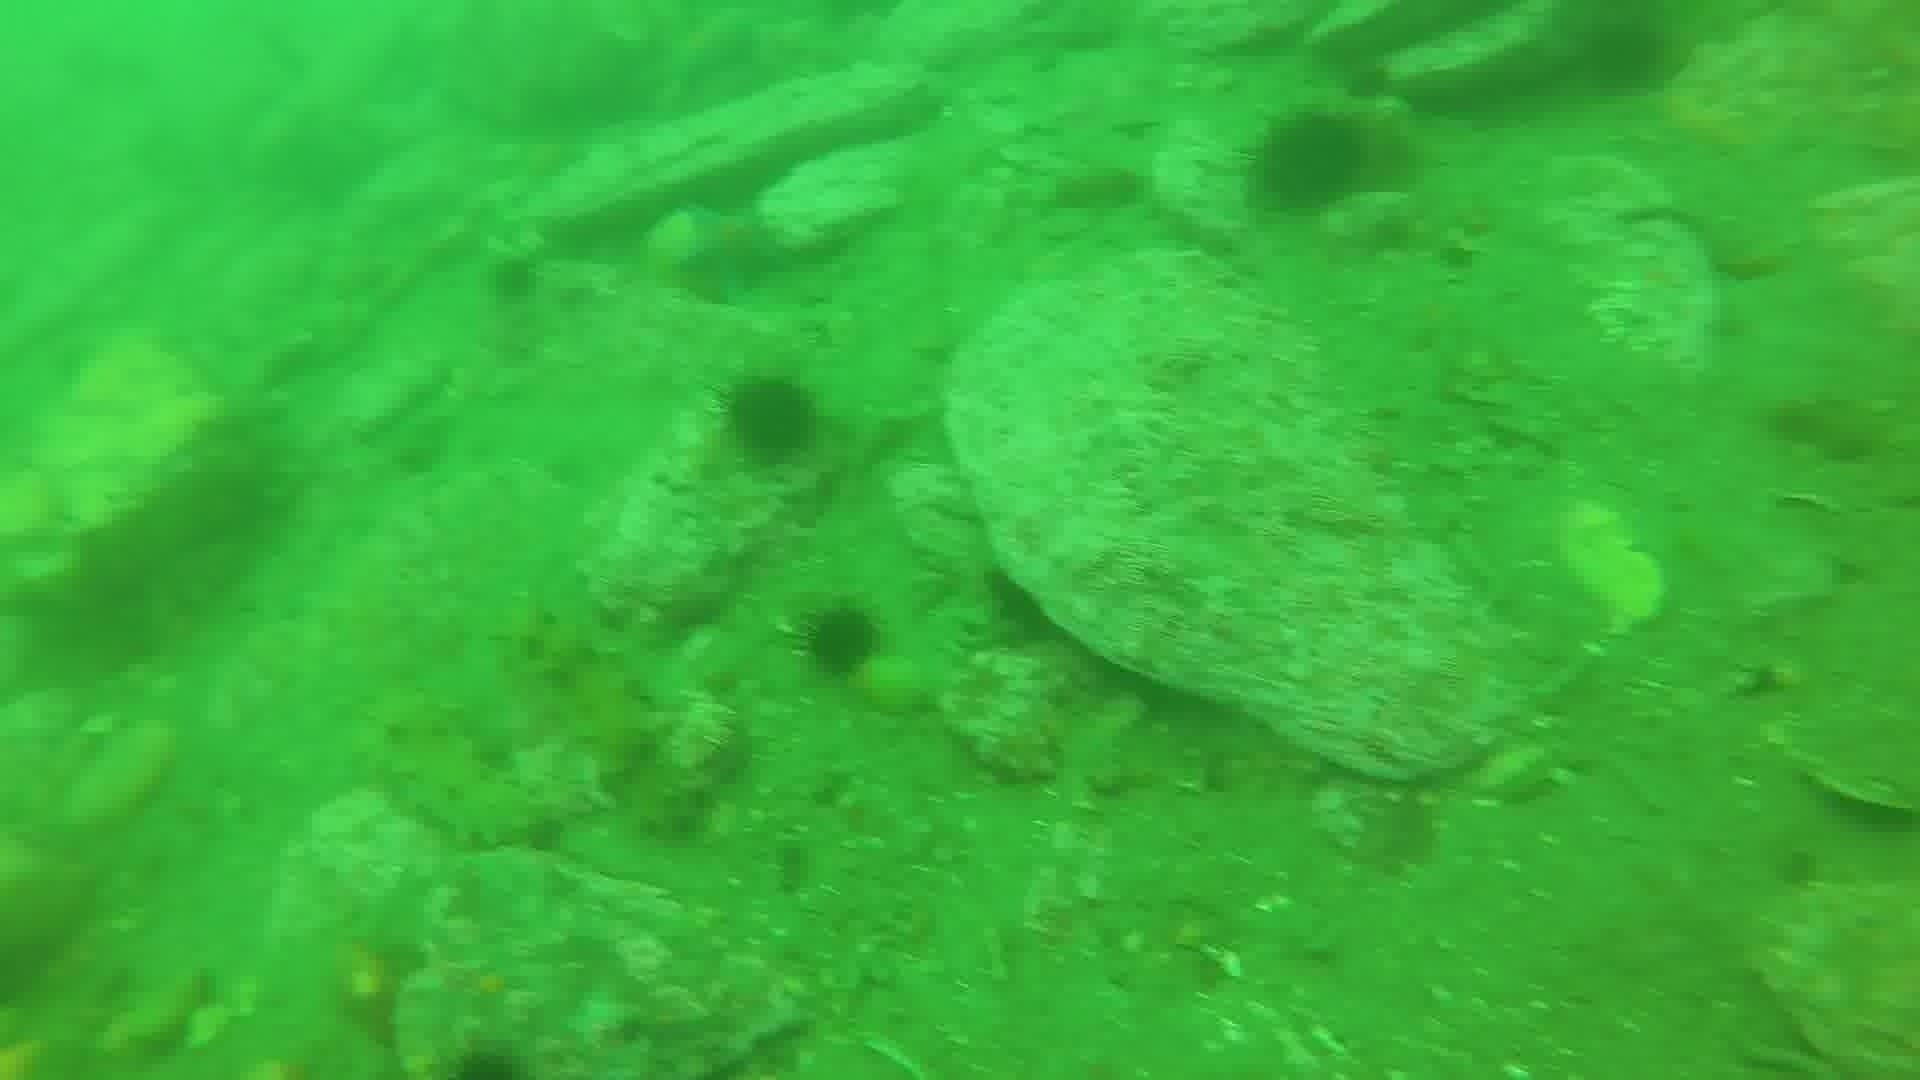echinus: (1244, 105, 1375, 219), (715, 371, 824, 469), (1568, 12, 1679, 102), (794, 599, 887, 683), (483, 249, 547, 310)
holothurian: (504, 585, 687, 775), (364, 686, 553, 855)
starfish: (666, 198, 795, 305)
